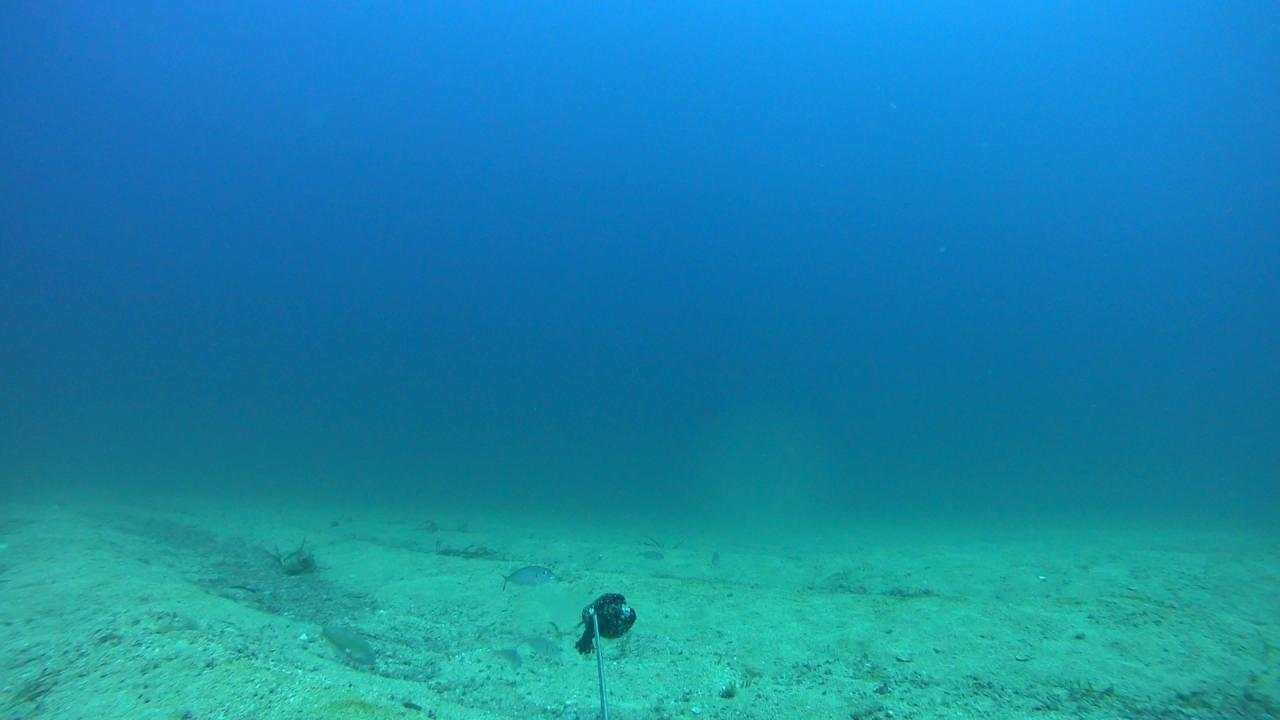pagellus: (497, 564, 557, 590), (518, 632, 564, 660), (487, 644, 527, 672)
raor: (312, 617, 380, 669)
